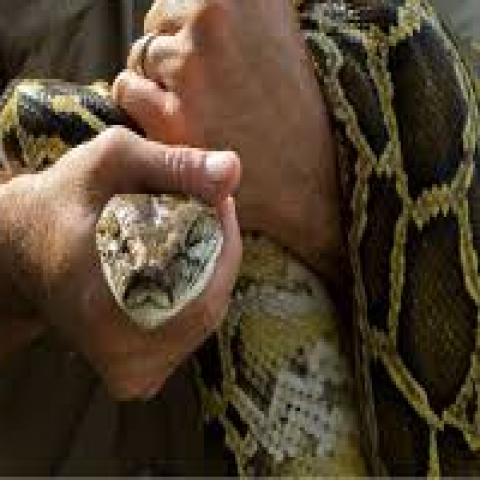snake: (1, 0, 479, 480)
